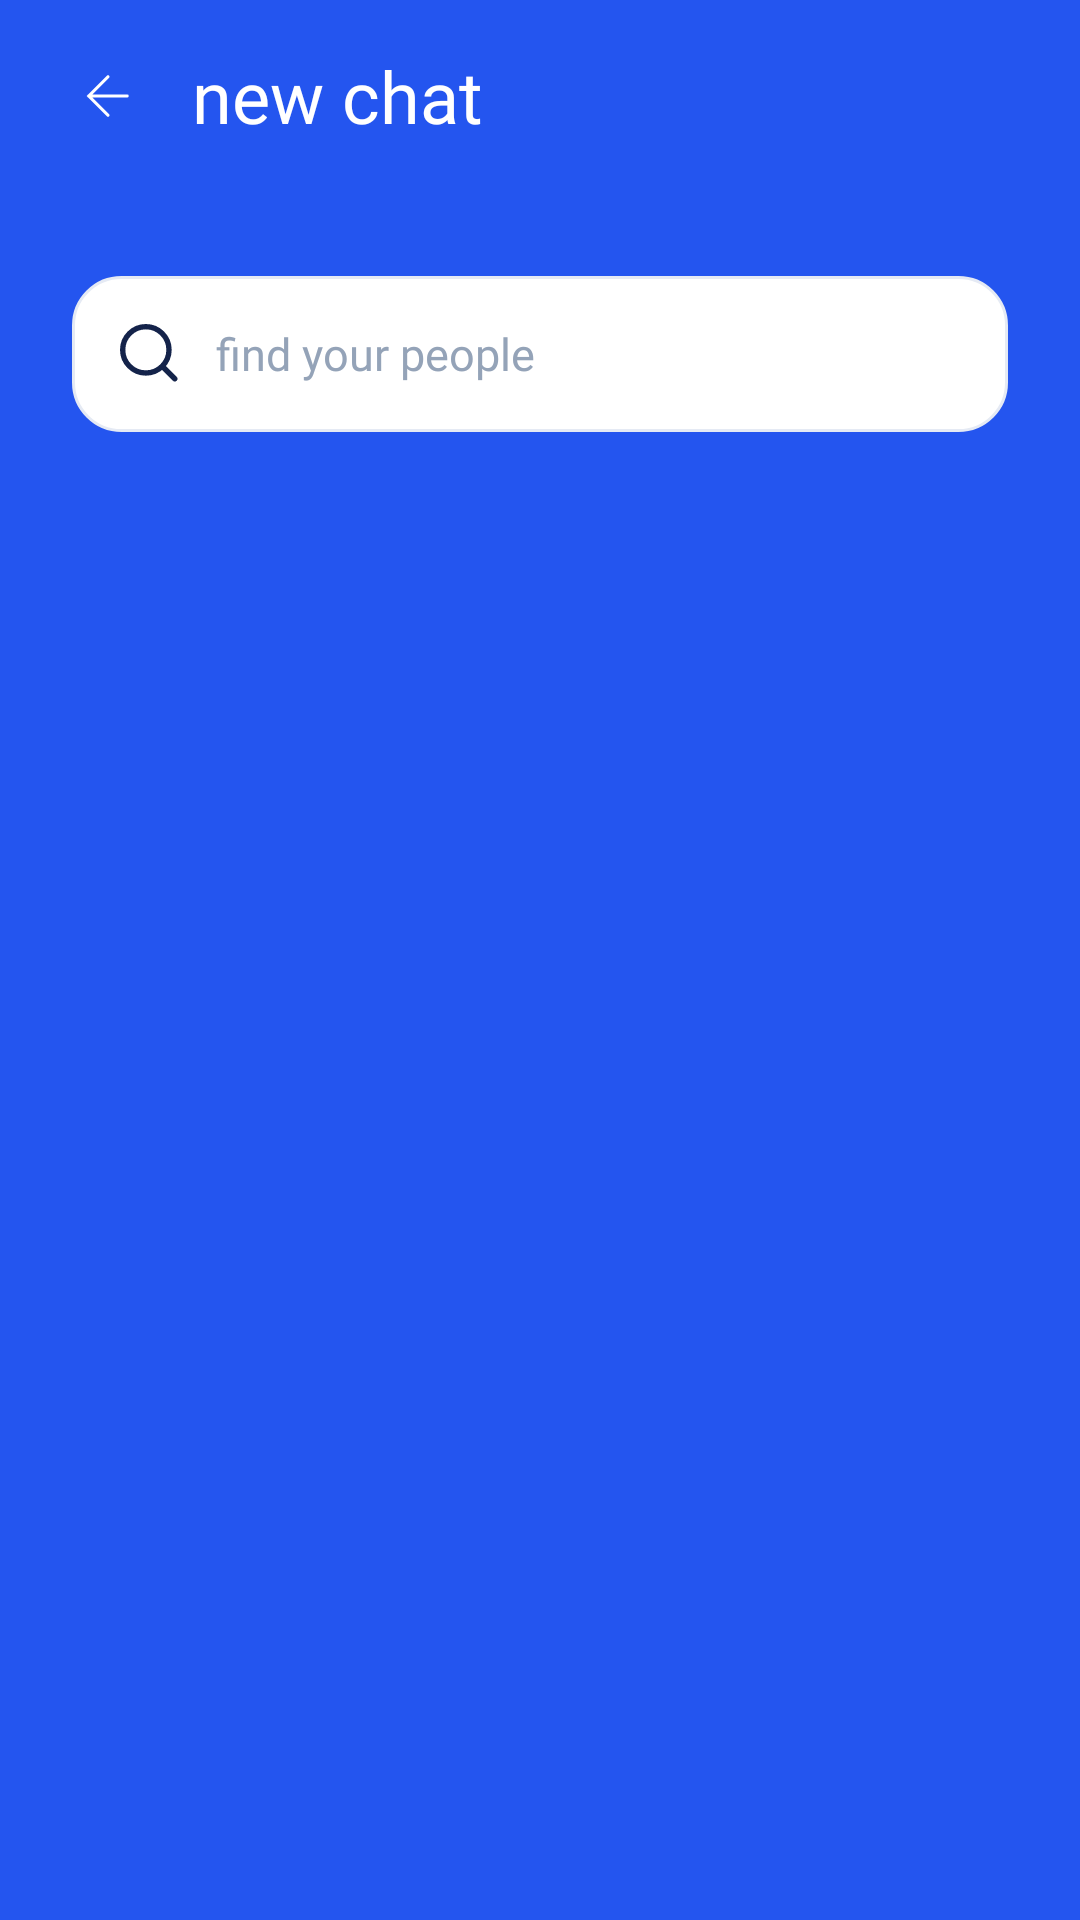

Point at icon controls on the screen. Image size 1080*1920, points as point (x, y).
Back: point (108, 96)
Search: point (149, 353)
